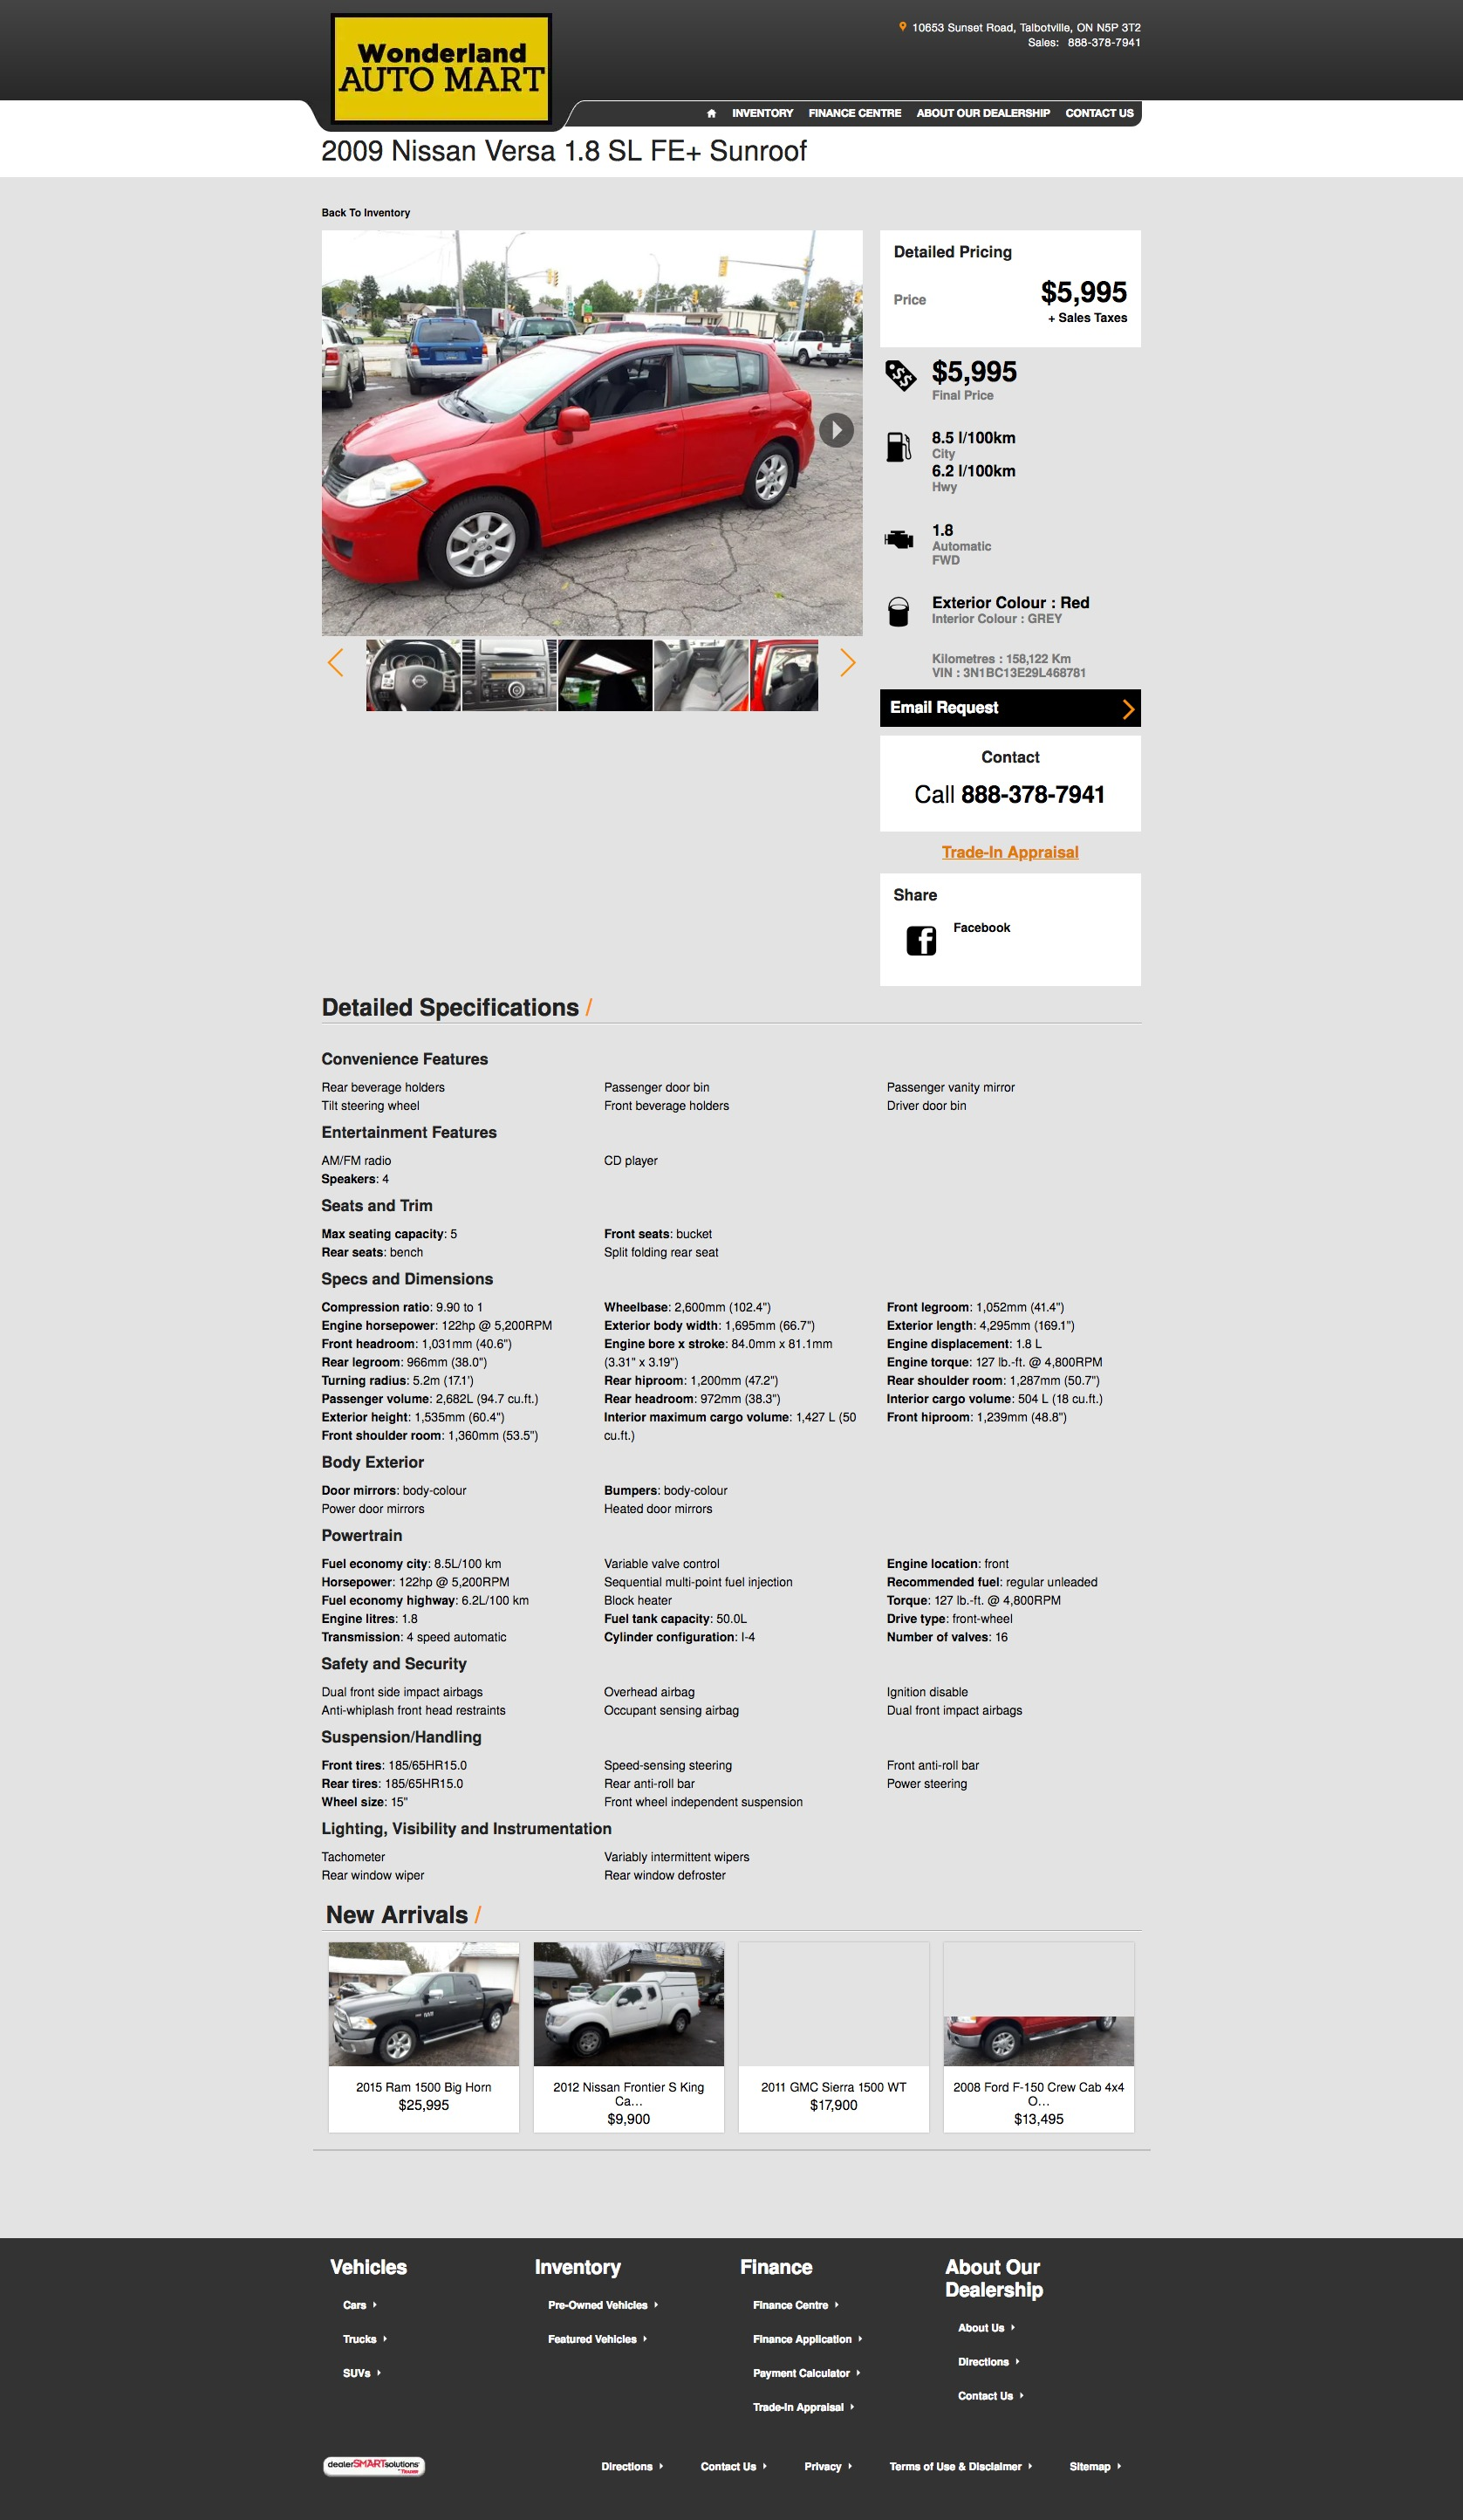car: (838, 648, 857, 679)
